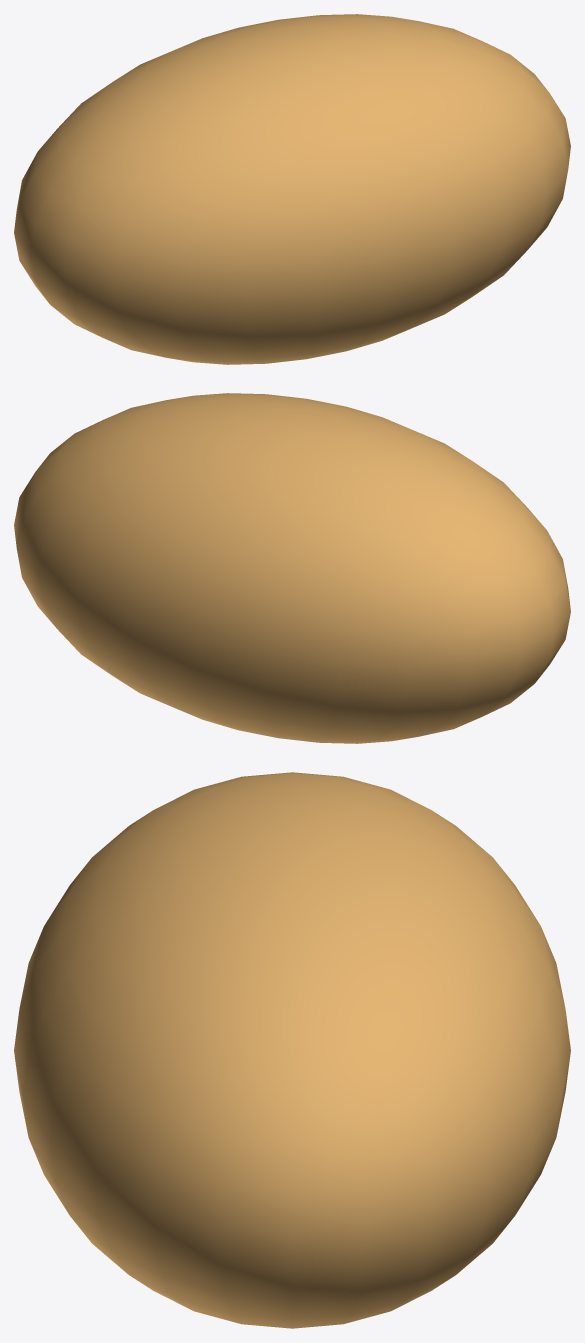
The model's file is nose_wide.glb.
3 views of the same model, one above another, from view 1: azimuth 30°, elevation 25°; view 2: azimuth 150°, elevation 25°; view 3: azimuth 270°, elevation 25° (orthographic). The views are drawn at different scales.
Visible parts, largest first — view 1: NoseWide.001; view 2: NoseWide.001; view 3: NoseWide.001.
Part boxes in pixels (<box>): NoseWide.001: <box>14,14,570,364</box>; NoseWide.001: <box>14,393,570,743</box>; NoseWide.001: <box>14,772,570,1328</box>.
Size of the model in its own units: 0.056 by 0.03 by 0.036.
